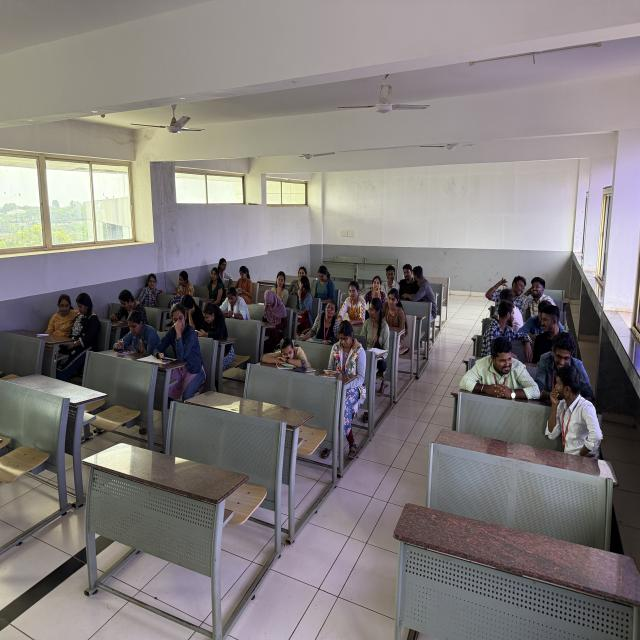Sleeping: (255, 334, 311, 370)
Using Phone: (324, 317, 374, 389), (156, 302, 201, 375), (115, 310, 165, 360), (195, 301, 237, 357), (258, 286, 292, 336), (108, 287, 148, 328), (218, 285, 248, 321)
